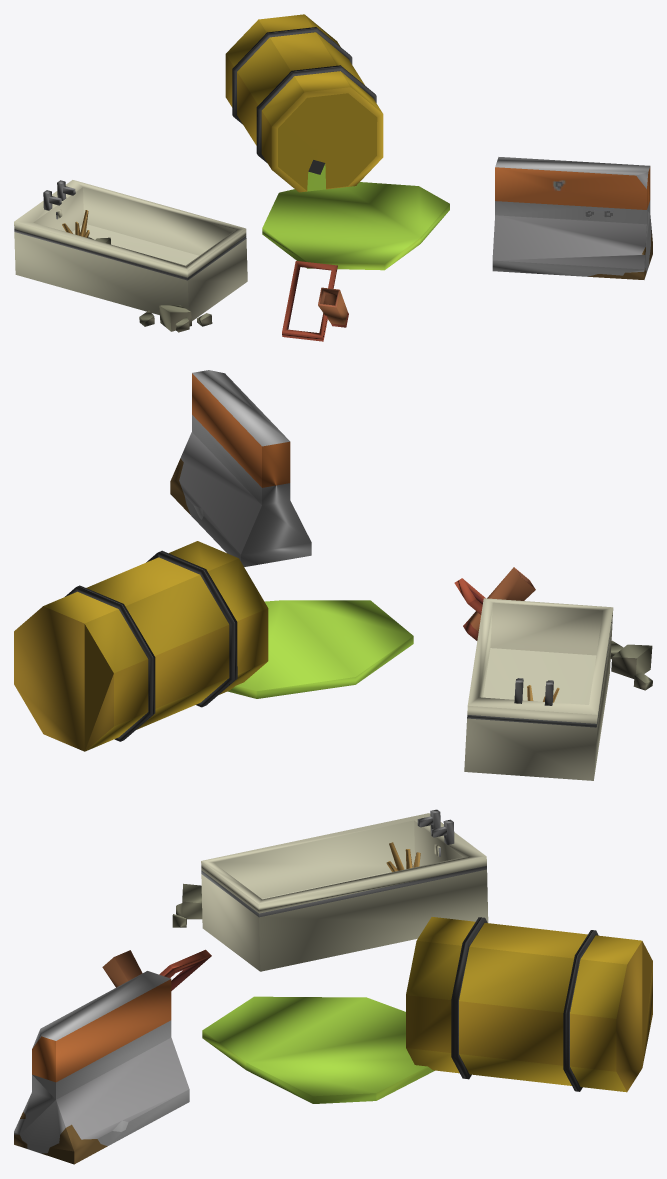
Rendered from apoc_prop_56.glb.
The picture shows the model from 3 angles, top to bottom: view 1: azimuth 30°, elevation 25°; view 2: azimuth 150°, elevation 25°; view 3: azimuth 270°, elevation 25°; orthographic projection. The views are drawn at different scales.
Visible parts, largest first — view 1: prop_058; view 2: prop_058; view 3: prop_058.
Part boxes in pixels (<box>): prop_058: <box>14,14,652,341</box>; prop_058: <box>14,370,652,780</box>; prop_058: <box>14,809,652,1164</box>.
Size of the model in its own units: 1.08 by 0.2821 by 0.9883.
Materials: 1 (1 with a texture image).
